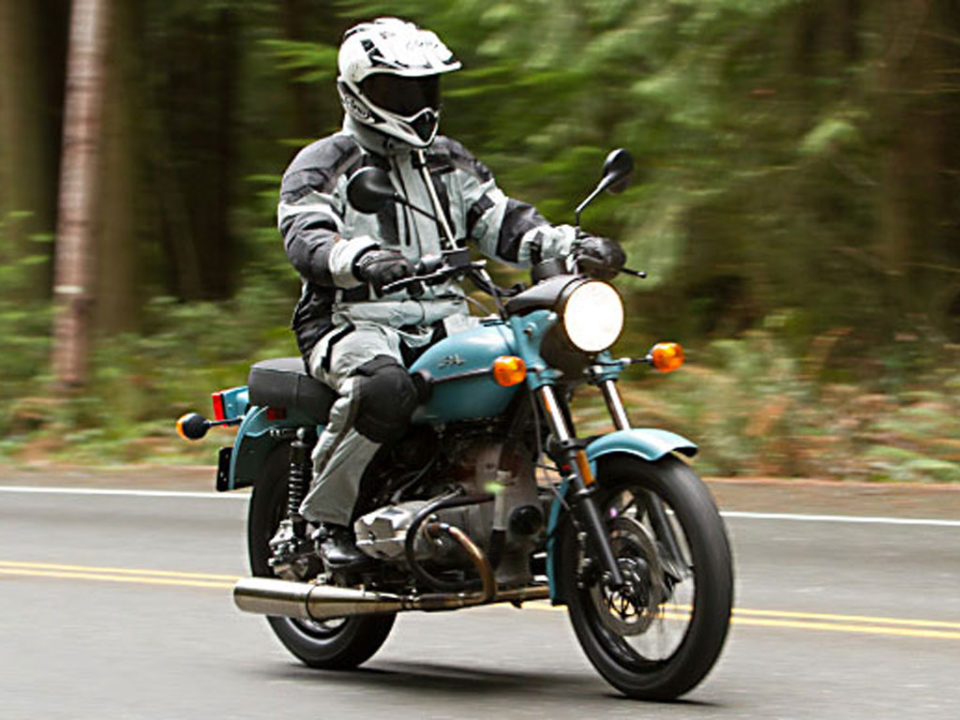helmet: (316, 12, 471, 155)
